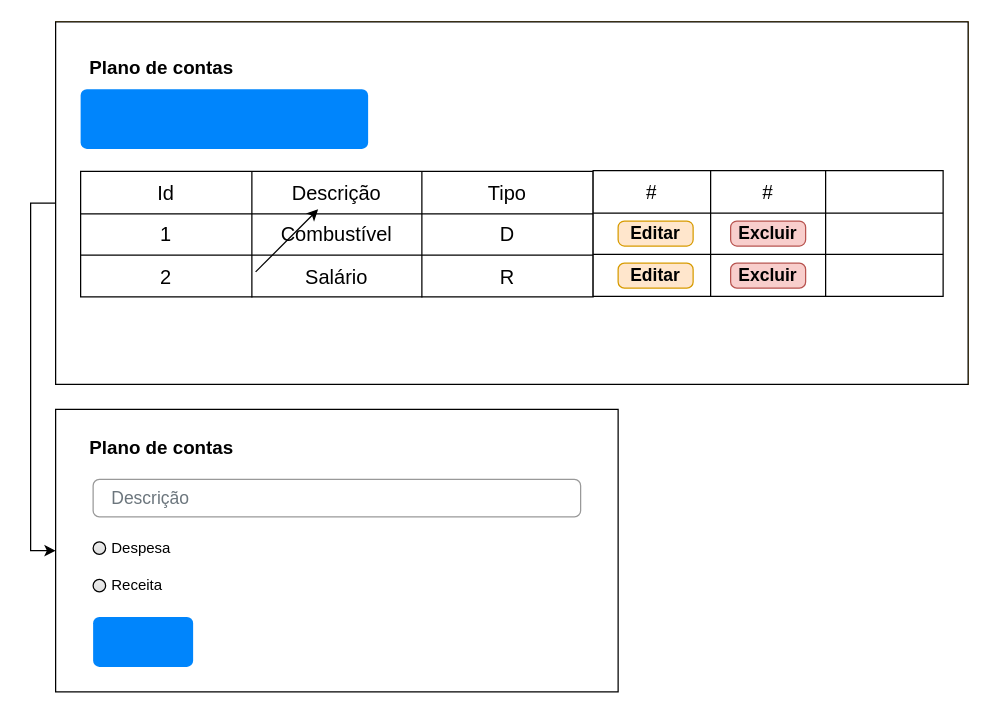
Image size: 990x714. Some labels were removed from this diagram. Here are the shapes that lost their labels. From the top down, the centre of each, then its label:
At point (224, 118): "Criar item de Plano de Conta".
At point (142, 641): "Registrar".
